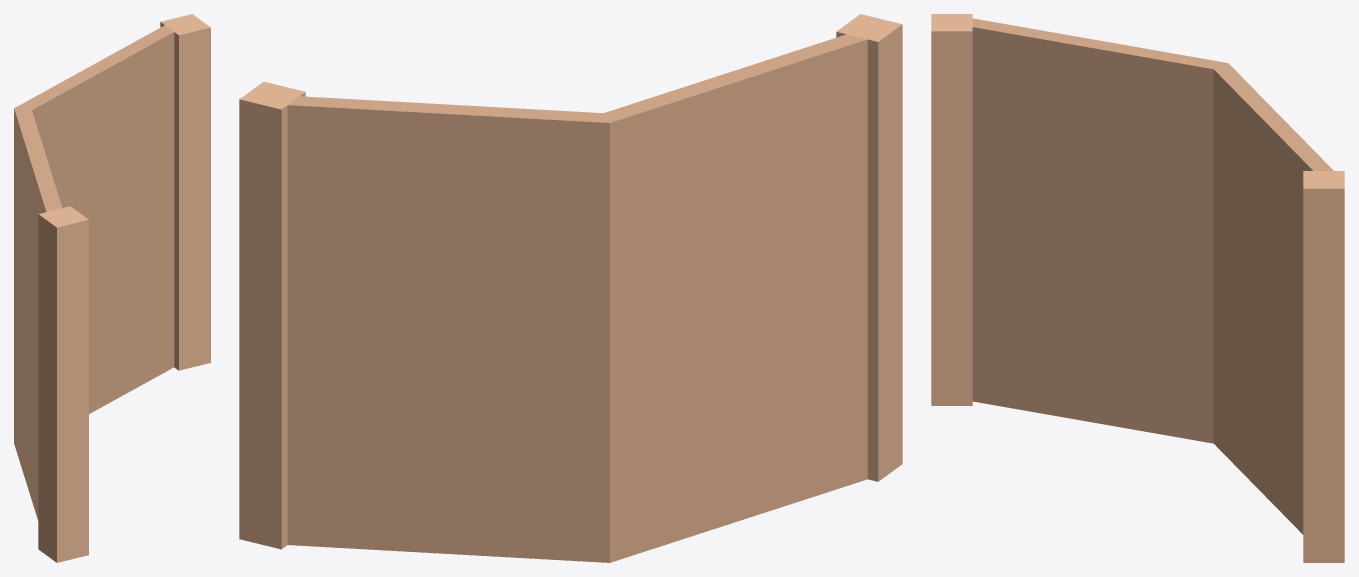
Rendered from wallWoodCornerEdge.glb.
3 renders of one model, left to right at view 1: azimuth 30°, elevation 25°; view 2: azimuth 150°, elevation 25°; view 3: azimuth 270°, elevation 25°, orthographic. The views are drawn at different scales.
Visible parts, largest first — view 1: wallWoodCornerEdge; view 2: wallWoodCornerEdge; view 3: wallWoodCornerEdge.
Boxes of the visible parts, <box> form: wallWoodCornerEdge: <box>14,14,210,562</box>; wallWoodCornerEdge: <box>239,14,902,562</box>; wallWoodCornerEdge: <box>931,14,1344,562</box>.
Size of the model in its own units: 1 by 1 by 1.
